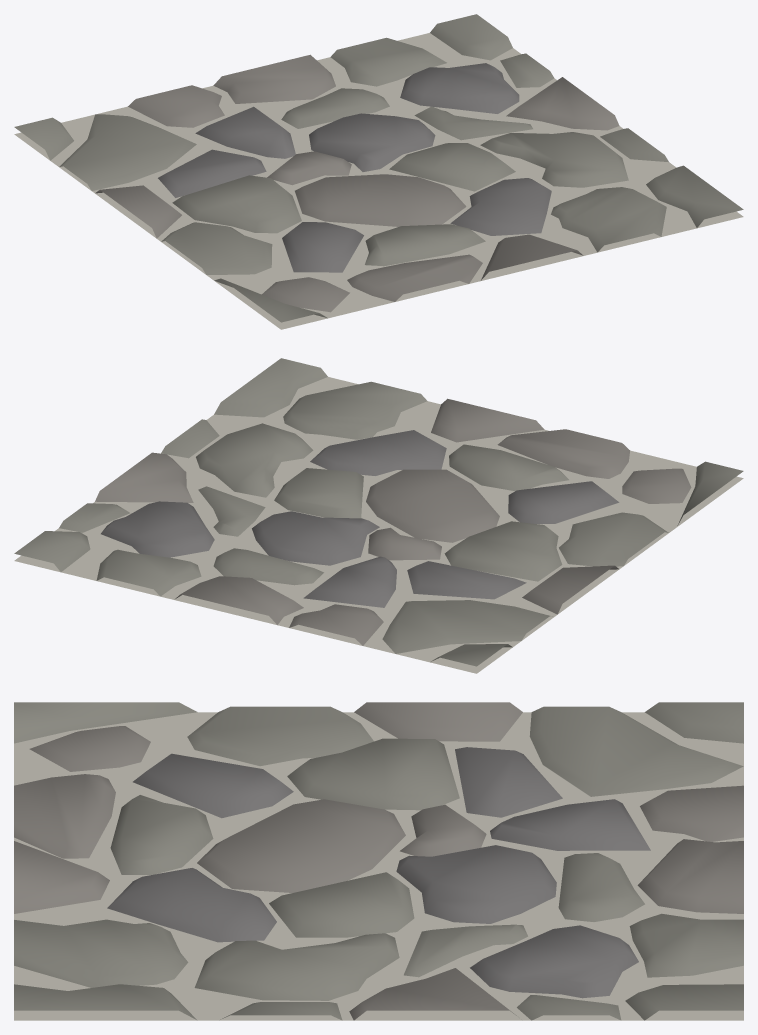
Rendered from rpgpp_ag_floor_04a_3x3.fbx.
The picture shows the model from 3 angles, top to bottom: view 1: azimuth 30°, elevation 25°; view 2: azimuth 150°, elevation 25°; view 3: azimuth 270°, elevation 25°; orthographic projection. The views are drawn at different scales.
Visible parts, largest first — view 1: rpgpp_ag_floor_04a_3x3; view 2: rpgpp_ag_floor_04a_3x3; view 3: rpgpp_ag_floor_04a_3x3.
Boxes of the visible parts, box(x1,y1,x2,y2) form: rpgpp_ag_floor_04a_3x3: box(14, 14, 743, 329); rpgpp_ag_floor_04a_3x3: box(14, 358, 743, 673); rpgpp_ag_floor_04a_3x3: box(14, 702, 743, 1020).
Bounding box in the file's own units: 3 × 0.045 × 3.
